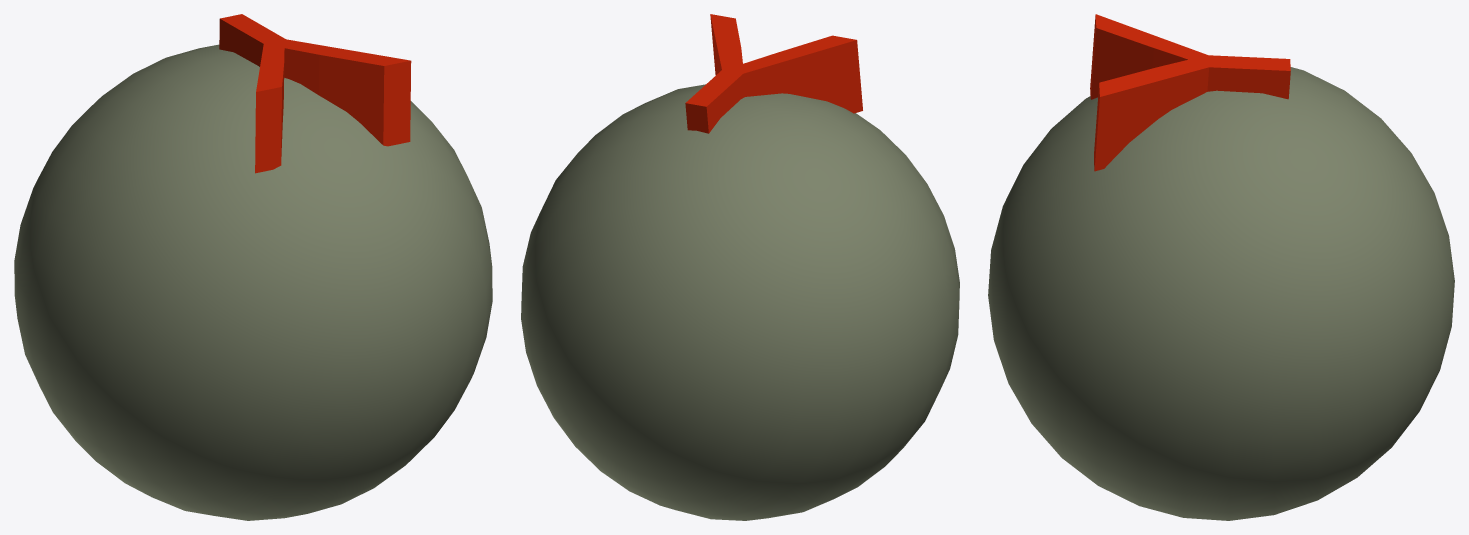
The picture shows the model from 3 angles, left to right: view 1: azimuth 30°, elevation 25°; view 2: azimuth 150°, elevation 25°; view 3: azimuth 270°, elevation 25°; orthographic projection. The views are drawn at different scales.
Visible parts, largest first — view 1: y; view 2: y; view 3: y.
Part boxes in pixels (bbox=[...]): y: bbox=[14, 14, 492, 520]; y: bbox=[521, 14, 959, 520]; y: bbox=[988, 14, 1454, 520].
Size of the model in its own units: 38.63 by 41.72 by 38.73.
